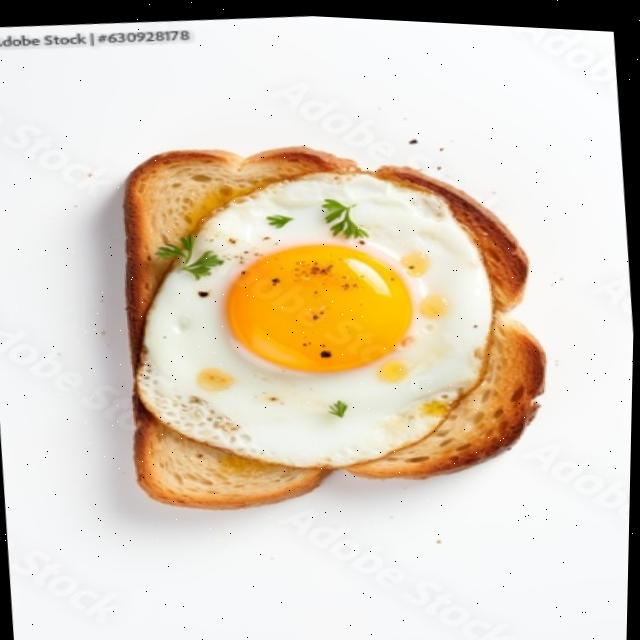Egg: (137, 169, 493, 463)
